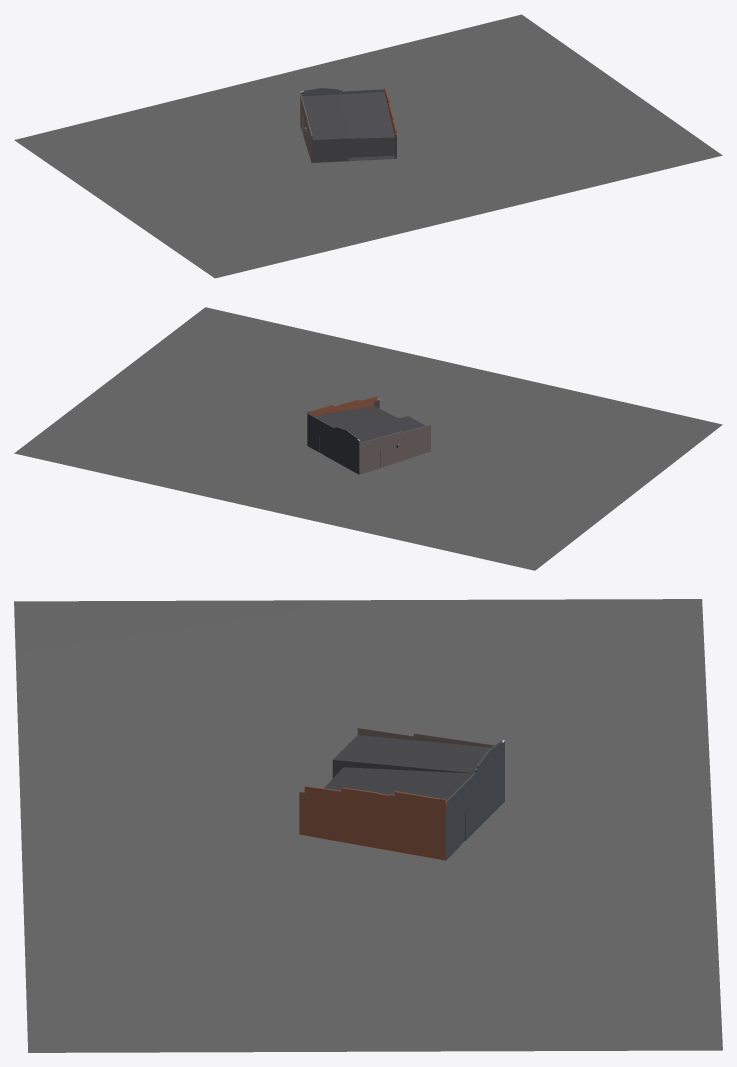
File: wilhoit-main.glb
3 renders of one model, top to bottom at view 1: azimuth 30°, elevation 25°; view 2: azimuth 150°, elevation 25°; view 3: azimuth 270°, elevation 25°, orthographic. The views are drawn at different scales.
Visible parts, largest first — view 1: LOD0; view 2: LOD0; view 3: LOD0.
Boxes of the visible parts, x1,y1,x2,y2 form: LOD0: (14,14,722,278); LOD0: (14,307,722,570); LOD0: (14,599,722,1052).
Size of what is drawn, in the model's own units: 102 by 7.44 by 68.08.
1 material, 1 textured.
